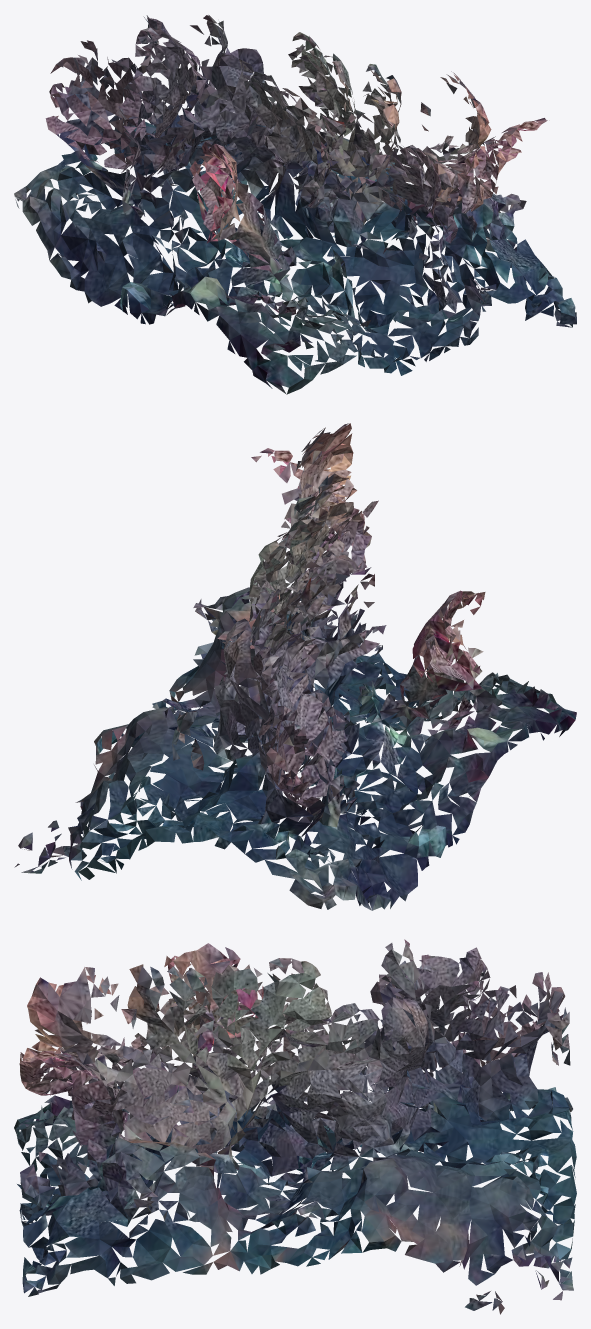
Rendered from coral-deep-sea.glb.
The picture shows the model from 3 angles, top to bottom: view 1: azimuth 30°, elevation 25°; view 2: azimuth 150°, elevation 25°; view 3: azimuth 270°, elevation 25°; orthographic projection. The views are drawn at different scales.
Parts seen in each view (by area): view 1: model; view 2: model; view 3: model.
Part boxes in pixels (x1=…): model: x1=14, y1=15, x2=576, y2=394; model: x1=14, y1=423, x2=576, y2=910; model: x1=14, y1=939, x2=576, y2=1314.
Size of the model in its own units: 1.15 by 0.9706 by 1.6.
1 material, 1 textured.
